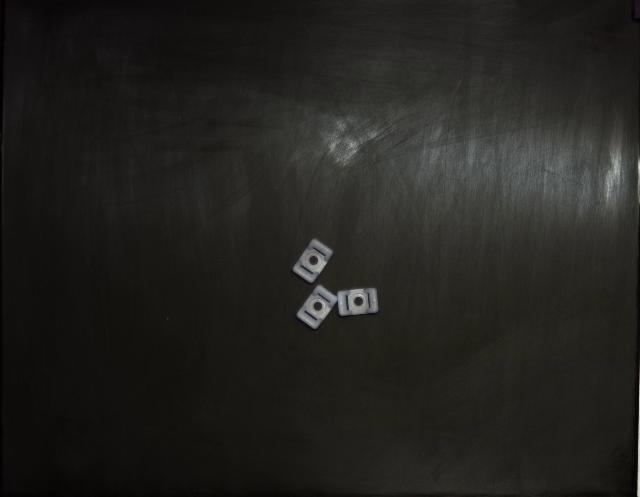first_side: (296, 285, 338, 330), (292, 239, 334, 284), (338, 288, 379, 316)
